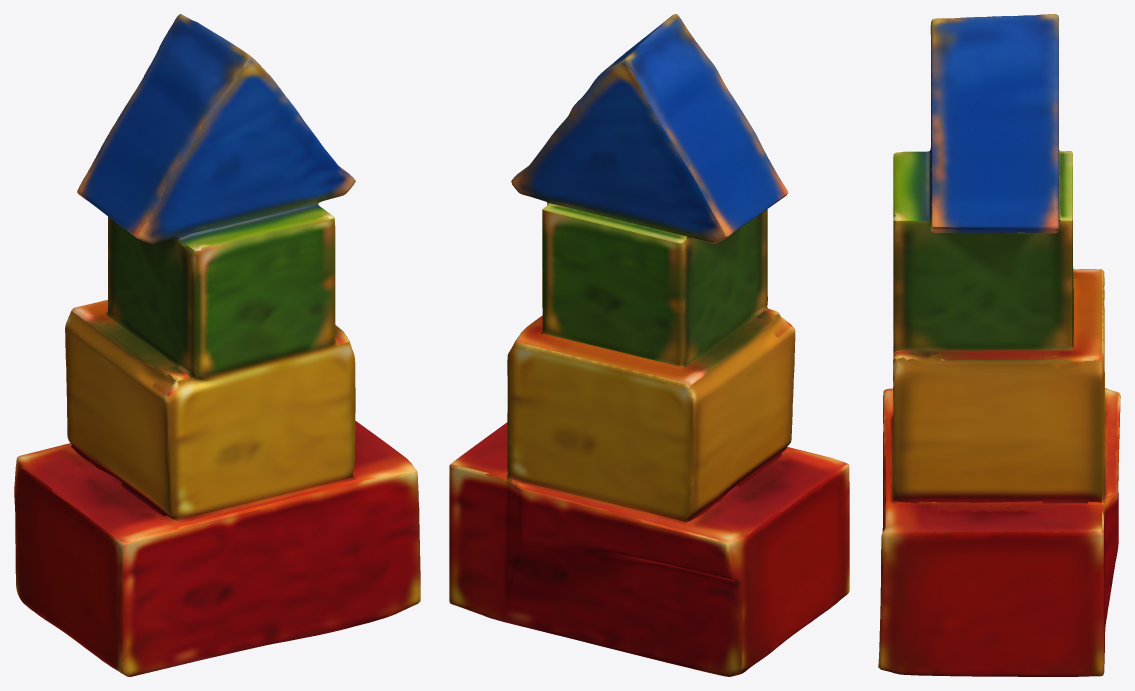
Rendered from Toy_blocks.glb.
The picture shows the model from 3 angles, left to right: view 1: azimuth 30°, elevation 25°; view 2: azimuth 150°, elevation 25°; view 3: azimuth 270°, elevation 25°; orthographic projection. The views are drawn at different scales.
Parts seen in each view (by area): view 1: tmpag4zole7.ply; view 2: tmpag4zole7.ply; view 3: tmpag4zole7.ply.
Boxes of the visible parts, x1,y1,x2,y2 form: tmpag4zole7.ply: (14, 14, 420, 676); tmpag4zole7.ply: (449, 14, 849, 676); tmpag4zole7.ply: (878, 14, 1120, 676).
Size of the model in its own units: 1.08 by 1.99 by 0.7395.
Materials: 1 (1 with a texture image).
